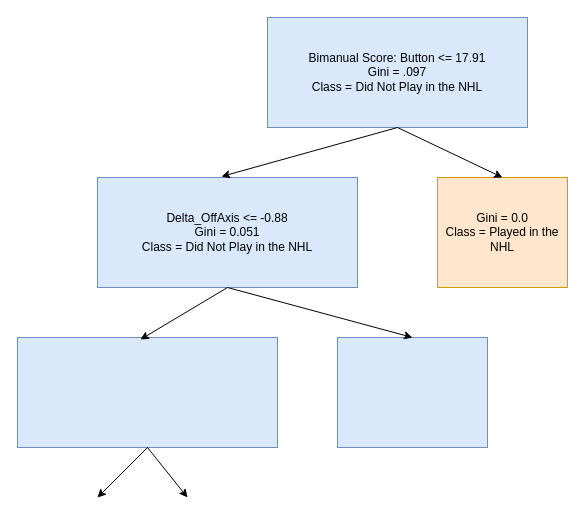
Some shapes in this 585 by 523 pixel diagram are drawn without their labels. The shapes that lost their labels are listed below. From the top down, each one's box as (x1, y1, x2, y2) in pixels, then its label:
(16, 336, 278, 448): DR Errors: HR <= 0.508 Gini = 0.375 Class = Did Not Play in the NHL
(336, 336, 488, 448): Gini = 0.0 Class = Did Not Play in the NHL
